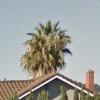Palm tree: (22, 12, 85, 81)
